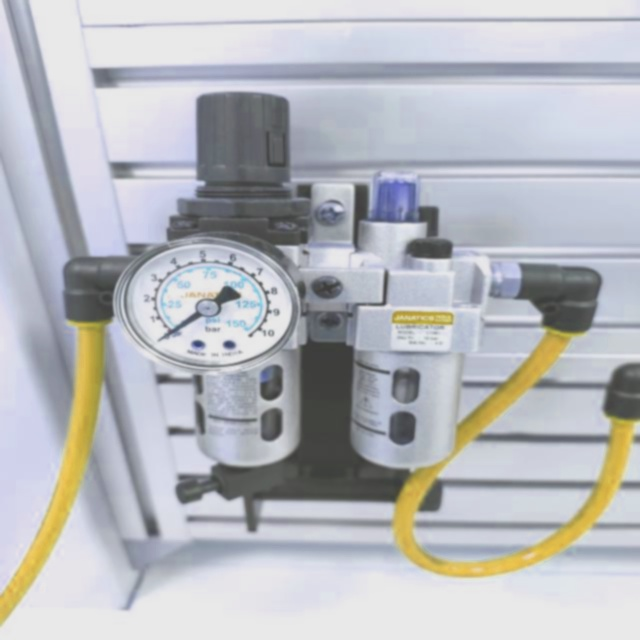FRL unit: (52, 82, 608, 518)
push button: (112, 231, 302, 375)
